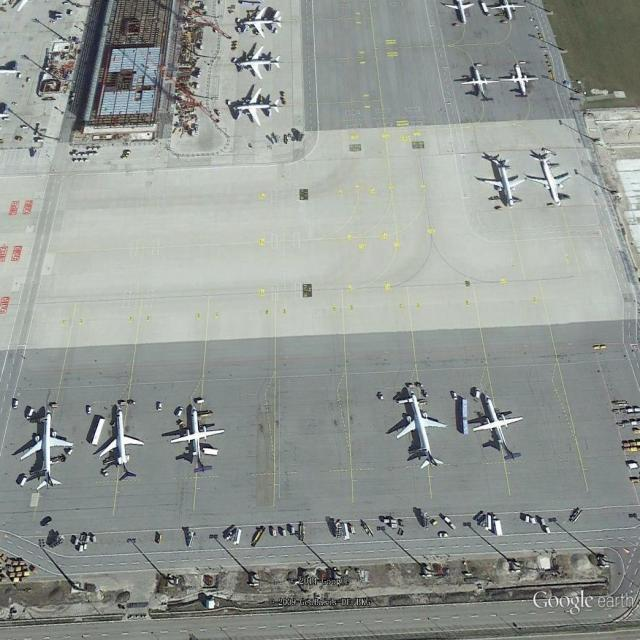aircraft: (17, 408, 76, 496), (394, 385, 453, 473), (171, 400, 229, 472), (472, 393, 526, 464), (93, 405, 148, 473), (525, 152, 576, 211), (477, 158, 530, 211), (231, 84, 282, 129), (233, 45, 285, 83), (459, 65, 501, 102), (238, 5, 284, 38), (501, 64, 543, 100), (486, 1, 530, 23), (443, 1, 476, 30)
